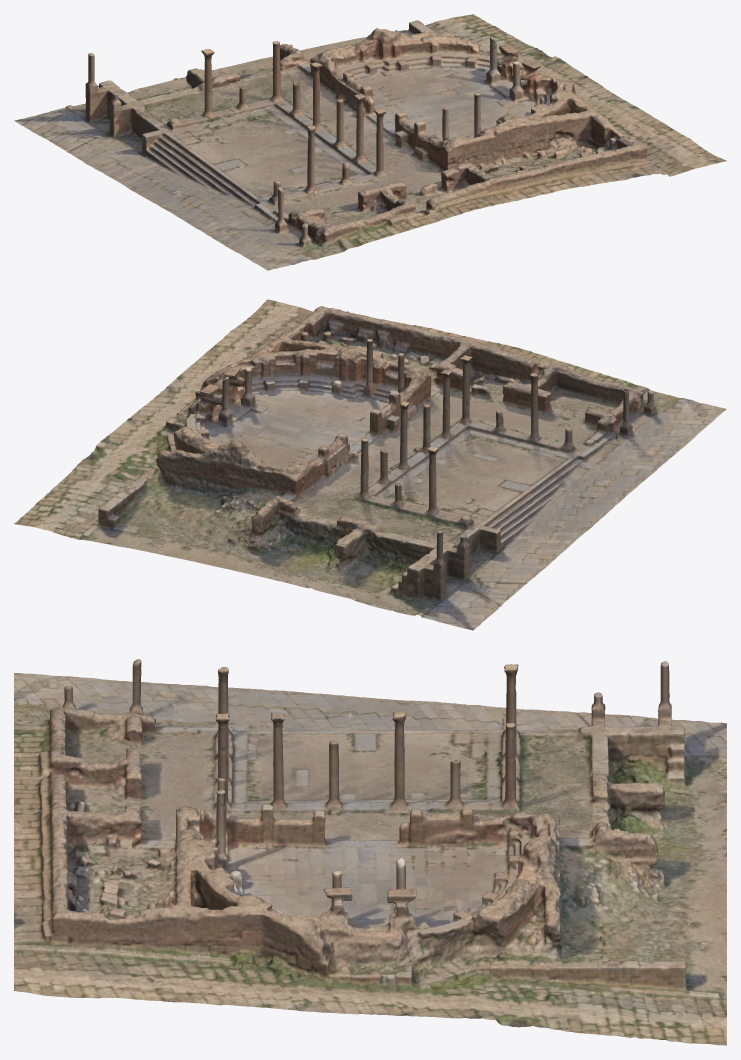
The picture shows the model from 3 angles, top to bottom: view 1: azimuth 30°, elevation 25°; view 2: azimuth 150°, elevation 25°; view 3: azimuth 270°, elevation 25°; orthographic projection. The views are drawn at different scales.
Parts seen in each view (by area): view 1: DZA_001_M4_Library; view 2: DZA_001_M4_Library; view 3: DZA_001_M4_Library.
Boxes of the visible parts, <box> form: DZA_001_M4_Library: <box>14,14,726,270</box>; DZA_001_M4_Library: <box>14,299,726,630</box>; DZA_001_M4_Library: <box>14,659,726,1045</box>.
Size of the model in its own units: 32.31 by 6.92 by 30.91.
1 material, 1 textured.
